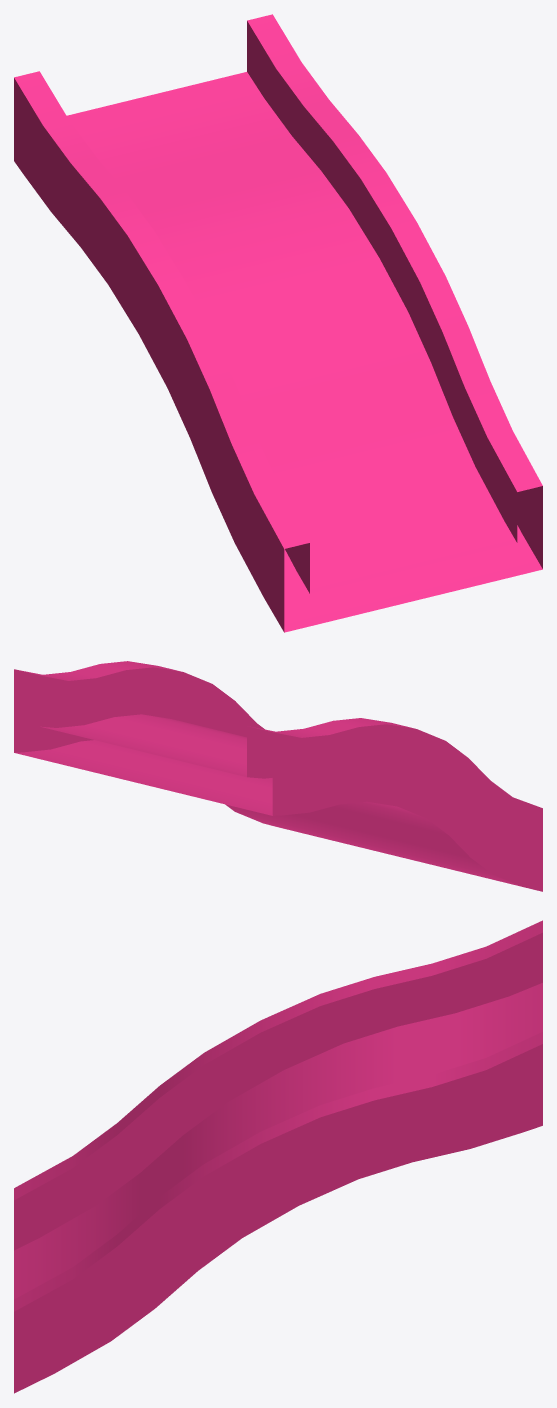
Rendered from Slide3.fbx.
The picture shows the model from 3 angles, top to bottom: view 1: azimuth 30°, elevation 25°; view 2: azimuth 150°, elevation 25°; view 3: azimuth 270°, elevation 25°; orthographic projection. The views are drawn at different scales.
Parts seen in each view (by area): view 1: Slide3; view 2: Slide3; view 3: Slide3.
Boxes of the visible parts, <box> form: Slide3: <box>14,14,542,632</box>; Slide3: <box>14,661,542,891</box>; Slide3: <box>14,920,542,1393</box>.
Bounding box in the file's own units: 2.44 × 3.22 × 4.41.
